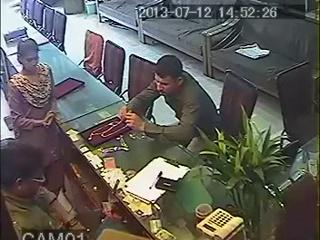Normal: (181, 104, 309, 240), (5, 38, 72, 196), (202, 17, 320, 101), (118, 54, 221, 149), (0, 138, 88, 240)
